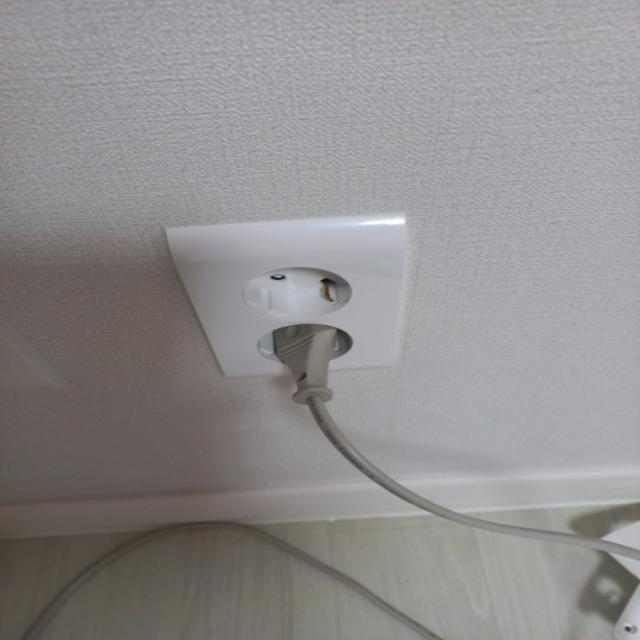typeb: (101, 169, 426, 401)
